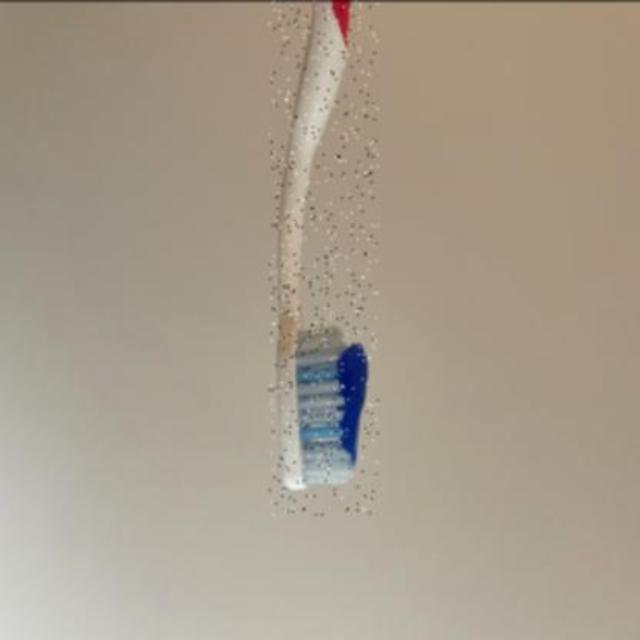toothbrush: (270, 1, 378, 514)
